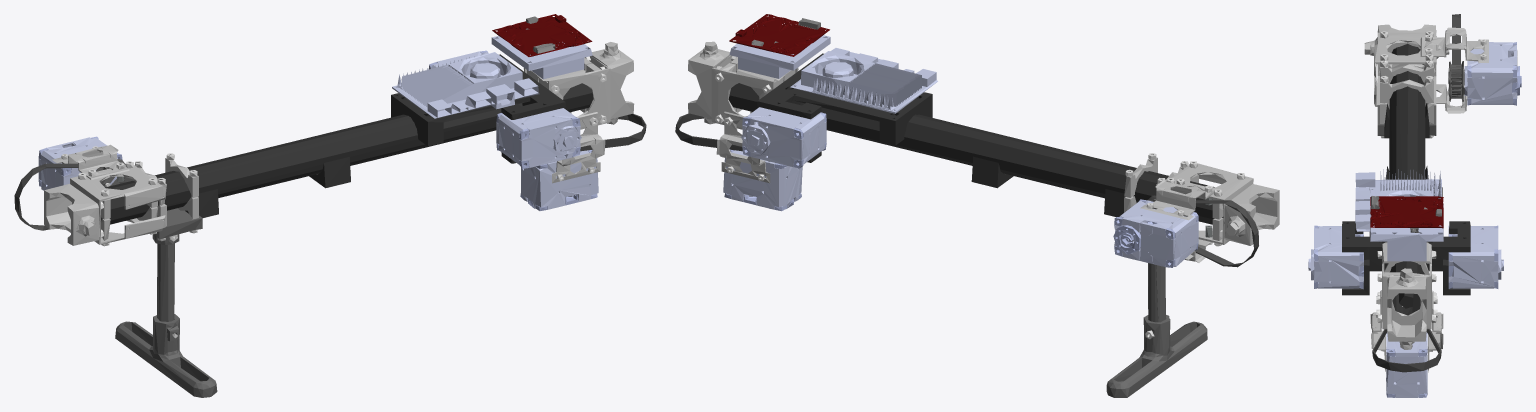
Rendered from main_link.dae.
3 views of the same model, side by side, from view 1: azimuth 30°, elevation 25°; view 2: azimuth 150°, elevation 25°; view 3: azimuth 270°, elevation 25° (orthographic).
Parts seen in each view (by area): view 1: Shape_IndexedFaceSet.149; view 2: Shape_IndexedFaceSet.149; view 3: Shape_IndexedFaceSet.149.
Part boxes in pixels (x1,y1,x2,y2): Shape_IndexedFaceSet.149: (14, 14, 646, 397); Shape_IndexedFaceSet.149: (675, 14, 1279, 397); Shape_IndexedFaceSet.149: (1308, 14, 1521, 397).
Size of the model in its own units: 469 by 146 by 181.
